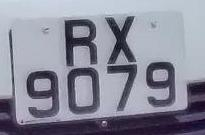0: (62, 62, 106, 120)
7: (101, 59, 148, 116)
9: (22, 62, 60, 123), (140, 57, 180, 112)
R: (55, 12, 106, 70)
X: (101, 11, 144, 66)
